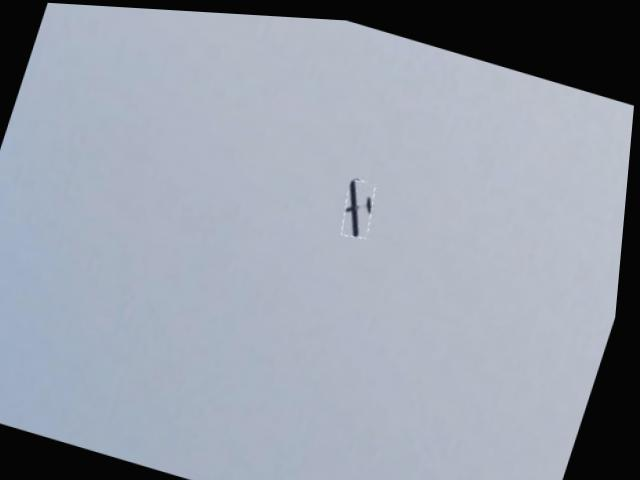insansiz-hava-araci: (338, 171, 384, 236)
